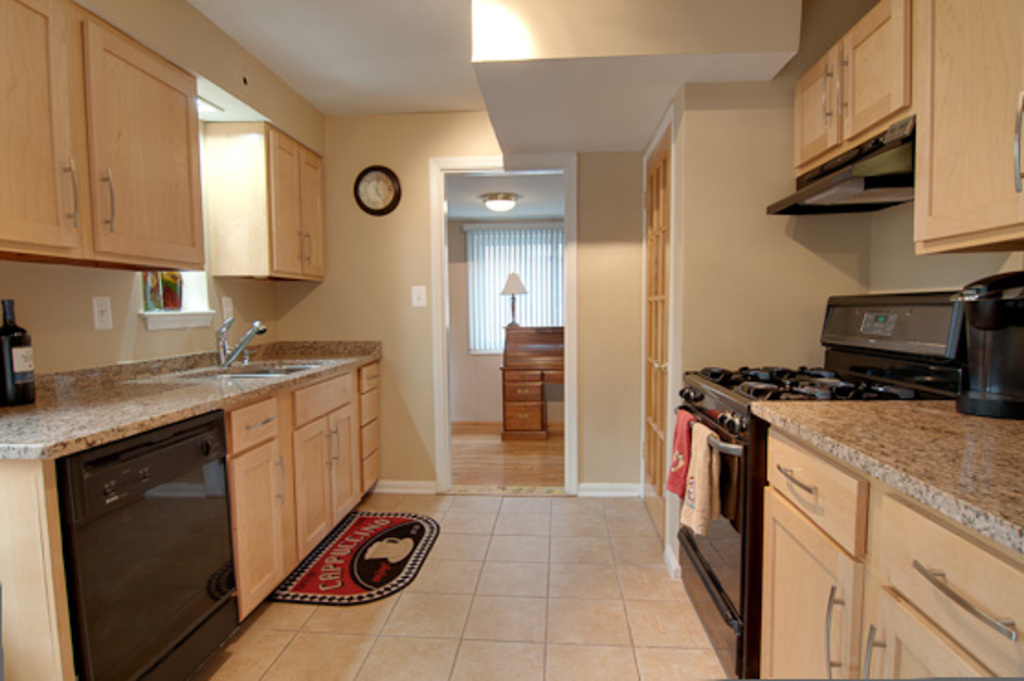cabinet door: (920, 11, 1024, 219), (94, 49, 196, 256), (7, 16, 82, 236), (769, 534, 854, 681), (894, 524, 1024, 609), (231, 463, 276, 583), (882, 628, 975, 681), (290, 434, 334, 540), (840, 42, 900, 114), (778, 453, 850, 512), (268, 143, 300, 274), (788, 79, 844, 142), (301, 163, 328, 270), (337, 421, 359, 498), (233, 404, 282, 433), (298, 385, 359, 408), (503, 370, 541, 400), (510, 400, 538, 430), (359, 453, 382, 486), (361, 396, 381, 429), (363, 427, 379, 449), (364, 364, 380, 385)
door: (646, 167, 670, 494)
handle: (924, 565, 1024, 639), (812, 588, 850, 681), (1004, 91, 1024, 192), (99, 166, 126, 234), (63, 158, 82, 230), (862, 619, 884, 681), (777, 468, 824, 496), (836, 56, 854, 116), (824, 65, 835, 116)
